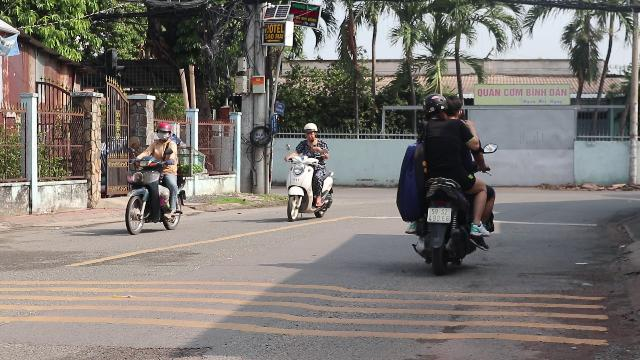helmet: (422, 93, 448, 119), (153, 121, 171, 141), (302, 122, 318, 140)
licenseplate: (427, 207, 451, 223)
motorcyclist: (393, 91, 497, 273), (120, 120, 186, 234), (282, 122, 336, 222)
nohelmet: (443, 94, 462, 118)
